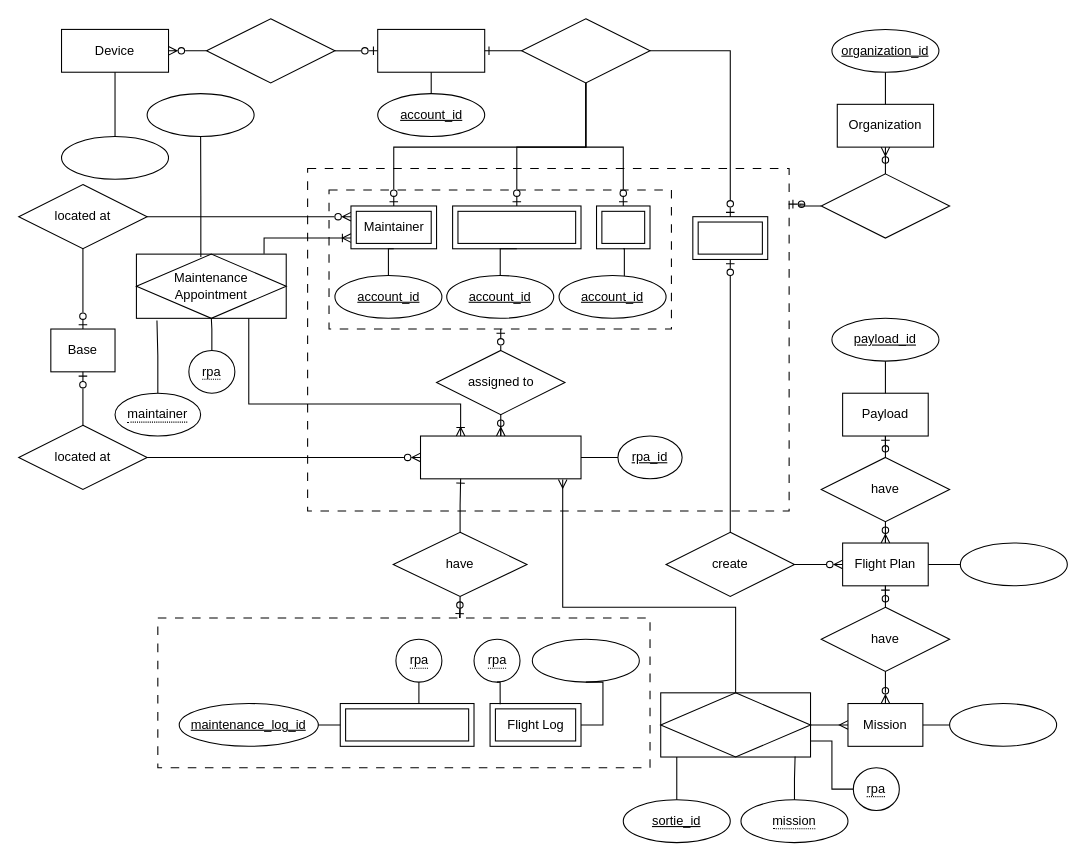
This 1086x861 diagram has some shape labels left out. The centre of each missing label's shape, as x and y in pixels:
"Account" belongs at point (431, 50).
"appointment_id" belongs at point (200, 114).
"belong" belongs at point (270, 50).
"belong to" belongs at point (885, 205).
"device_id" belongs at point (114, 157).
"flight_log_id" belongs at point (585, 660).
"ISA" belongs at point (585, 50).
"Maintenance Log" belongs at point (406, 724).
"mission_id" belongs at point (1003, 724).
"Pilot" belongs at point (622, 227).
"plan_id" belongs at point (1013, 564).
"Planner" belongs at point (730, 237).
"Remotely Piloted Aircraft" belongs at point (500, 457).
"Sensor Operator" belongs at point (516, 227).
"Sortie" belongs at point (735, 724).
